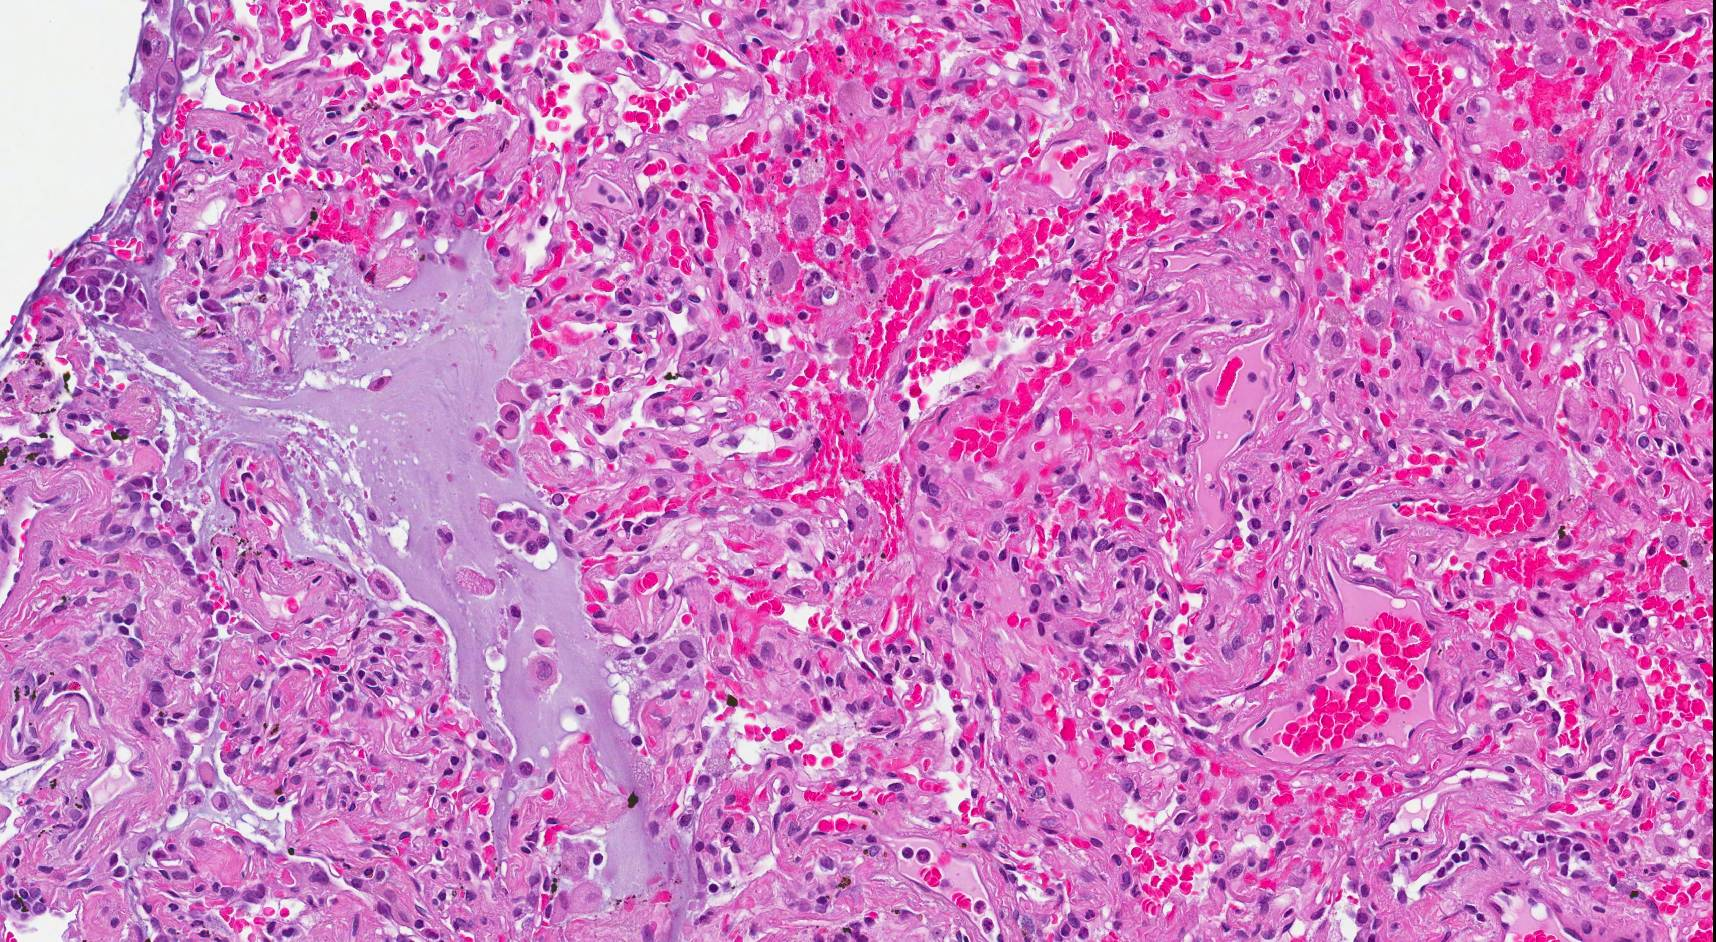stas: (55, 249, 156, 329), (483, 499, 555, 563)
